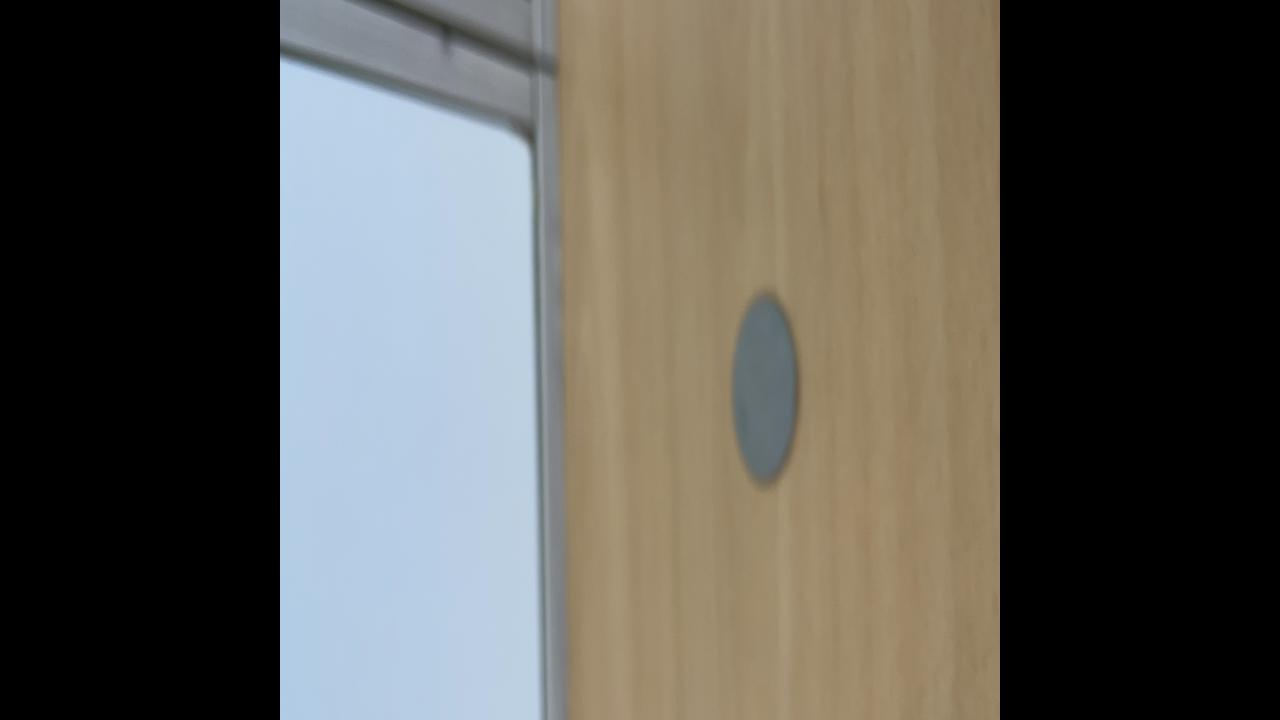coin: (730, 288, 800, 490)
